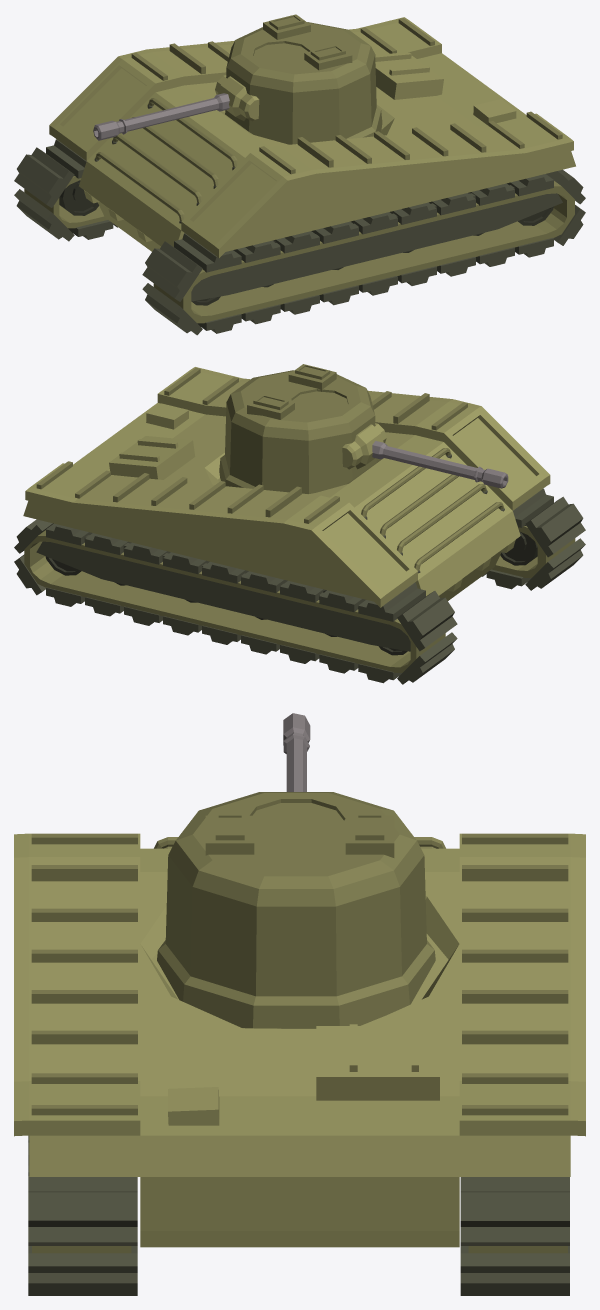
Rendered from camp-vehicles-vehicle-tank-3.glb.
The picture shows the model from 3 angles, top to bottom: view 1: azimuth 30°, elevation 25°; view 2: azimuth 150°, elevation 25°; view 3: azimuth 270°, elevation 25°; orthographic projection. The views are drawn at different scales.
Parts seen in each view (by area): view 1: camp-vehicles-vehicle-tank-3; view 2: camp-vehicles-vehicle-tank-3; view 3: camp-vehicles-vehicle-tank-3.
Boxes of the visible parts, x1,y1,x2,y2 form: camp-vehicles-vehicle-tank-3: [14, 14, 585, 335]; camp-vehicles-vehicle-tank-3: [14, 364, 585, 684]; camp-vehicles-vehicle-tank-3: [14, 713, 585, 1295].
Bounding box in the file's own units: 7 × 3.67 × 5.
